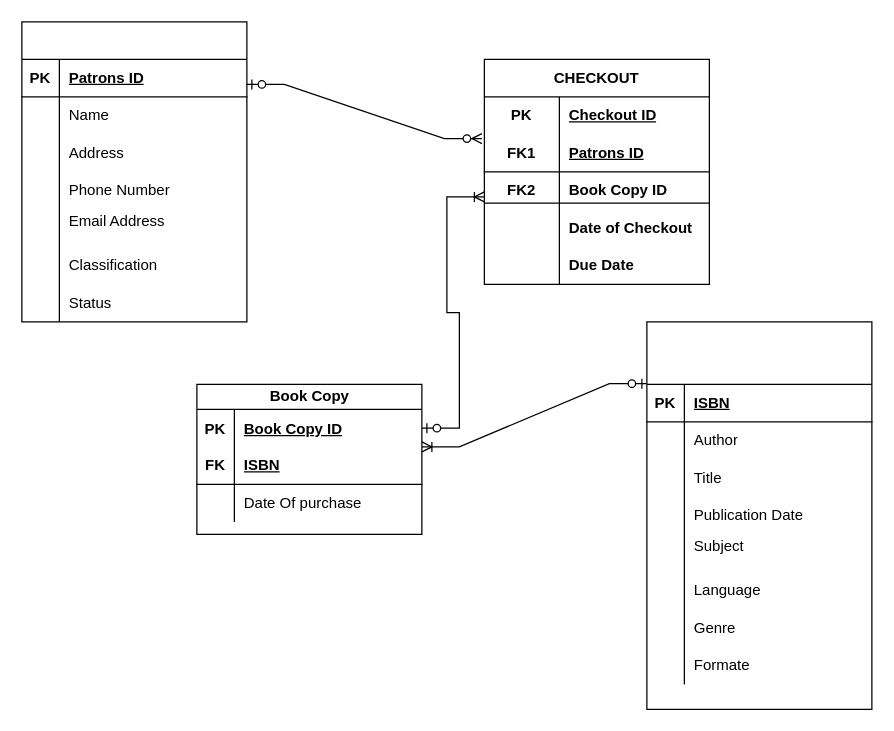
Some shapes in this 894 by 731 pixel diagram are drawn without their labels. The shapes that lost their labels are listed below. From the top down, each one's box as (x1, y1, x2, y2) in pixels, then its label:
(21, 21, 247, 322): USER
(646, 321, 872, 709): BOOK
